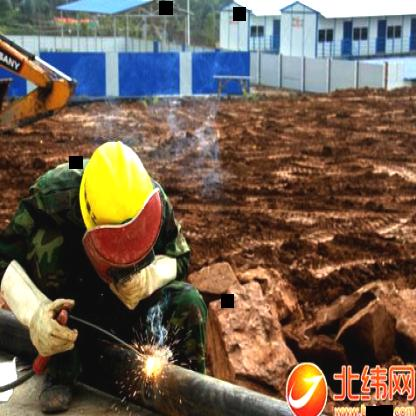helmet: (70, 132, 168, 268)
